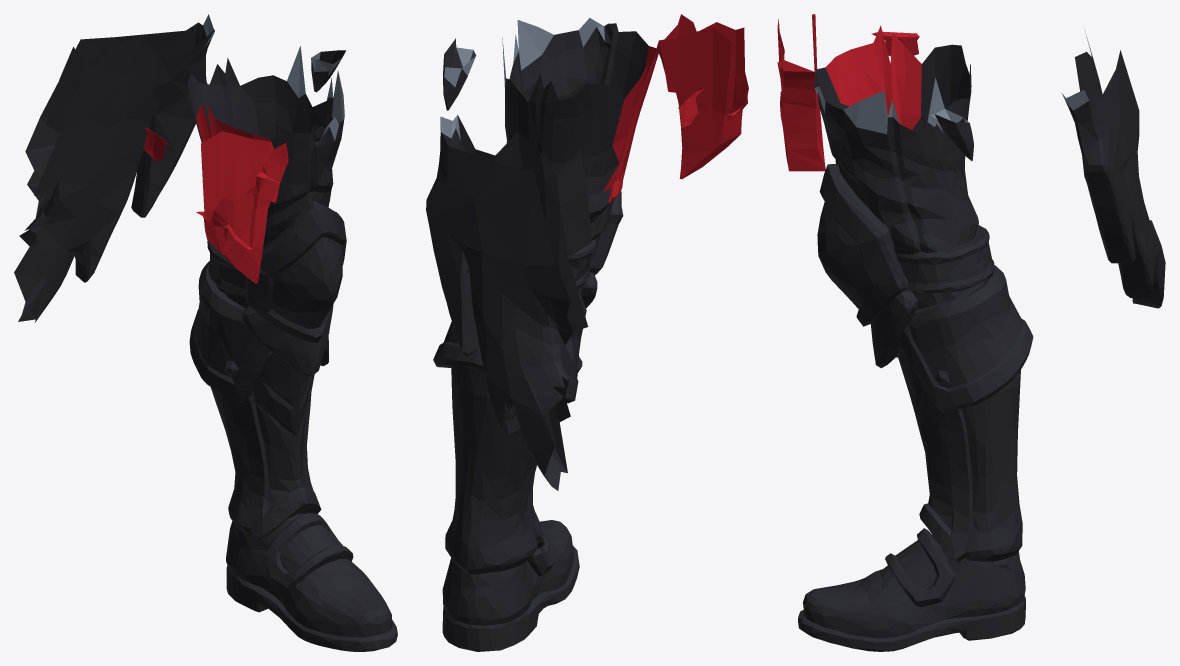
Rendered from rogue_leg_l.obj.
3 views of the same model, side by side, from view 1: azimuth 30°, elevation 25°; view 2: azimuth 150°, elevation 25°; view 3: azimuth 270°, elevation 25° (orthographic). The views are drawn at different scales.
Visible parts, largest first — view 1: Rogue_LeftLeg; view 2: Rogue_LeftLeg; view 3: Rogue_LeftLeg.
Boxes of the visible parts, x1,y1,x2,y2 form: Rogue_LeftLeg: (14,14,397,651); Rogue_LeftLeg: (426,14,748,651); Rogue_LeftLeg: (777,14,1165,651).
Size of the model in its own units: 0.3622 by 0.8581 by 0.547.
